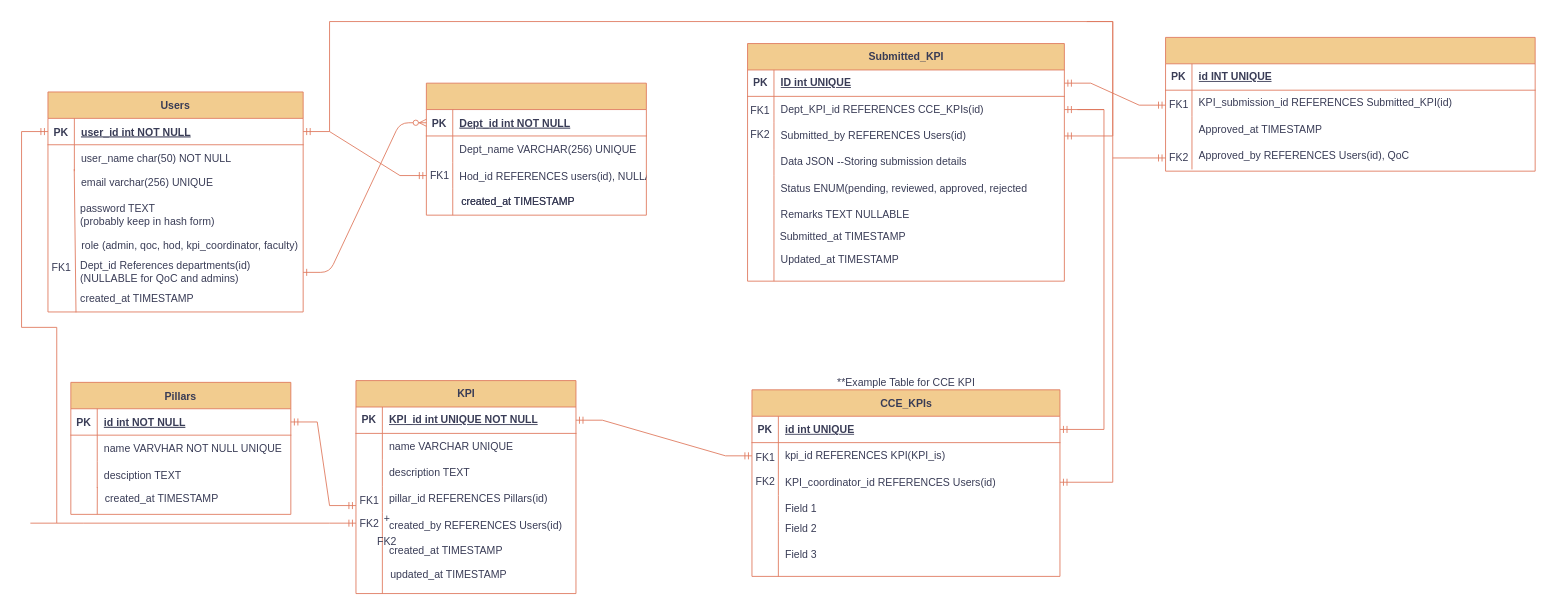
This 1551x610 diagram has some shape labels left out. The shapes that lost their labels are listed below. From the top down, each one's box as (x1, y1, x2, y2) in pixels, then its label:
(1165, 37, 1535, 171): Approved_KPIs
(425, 82, 646, 215): Departments
